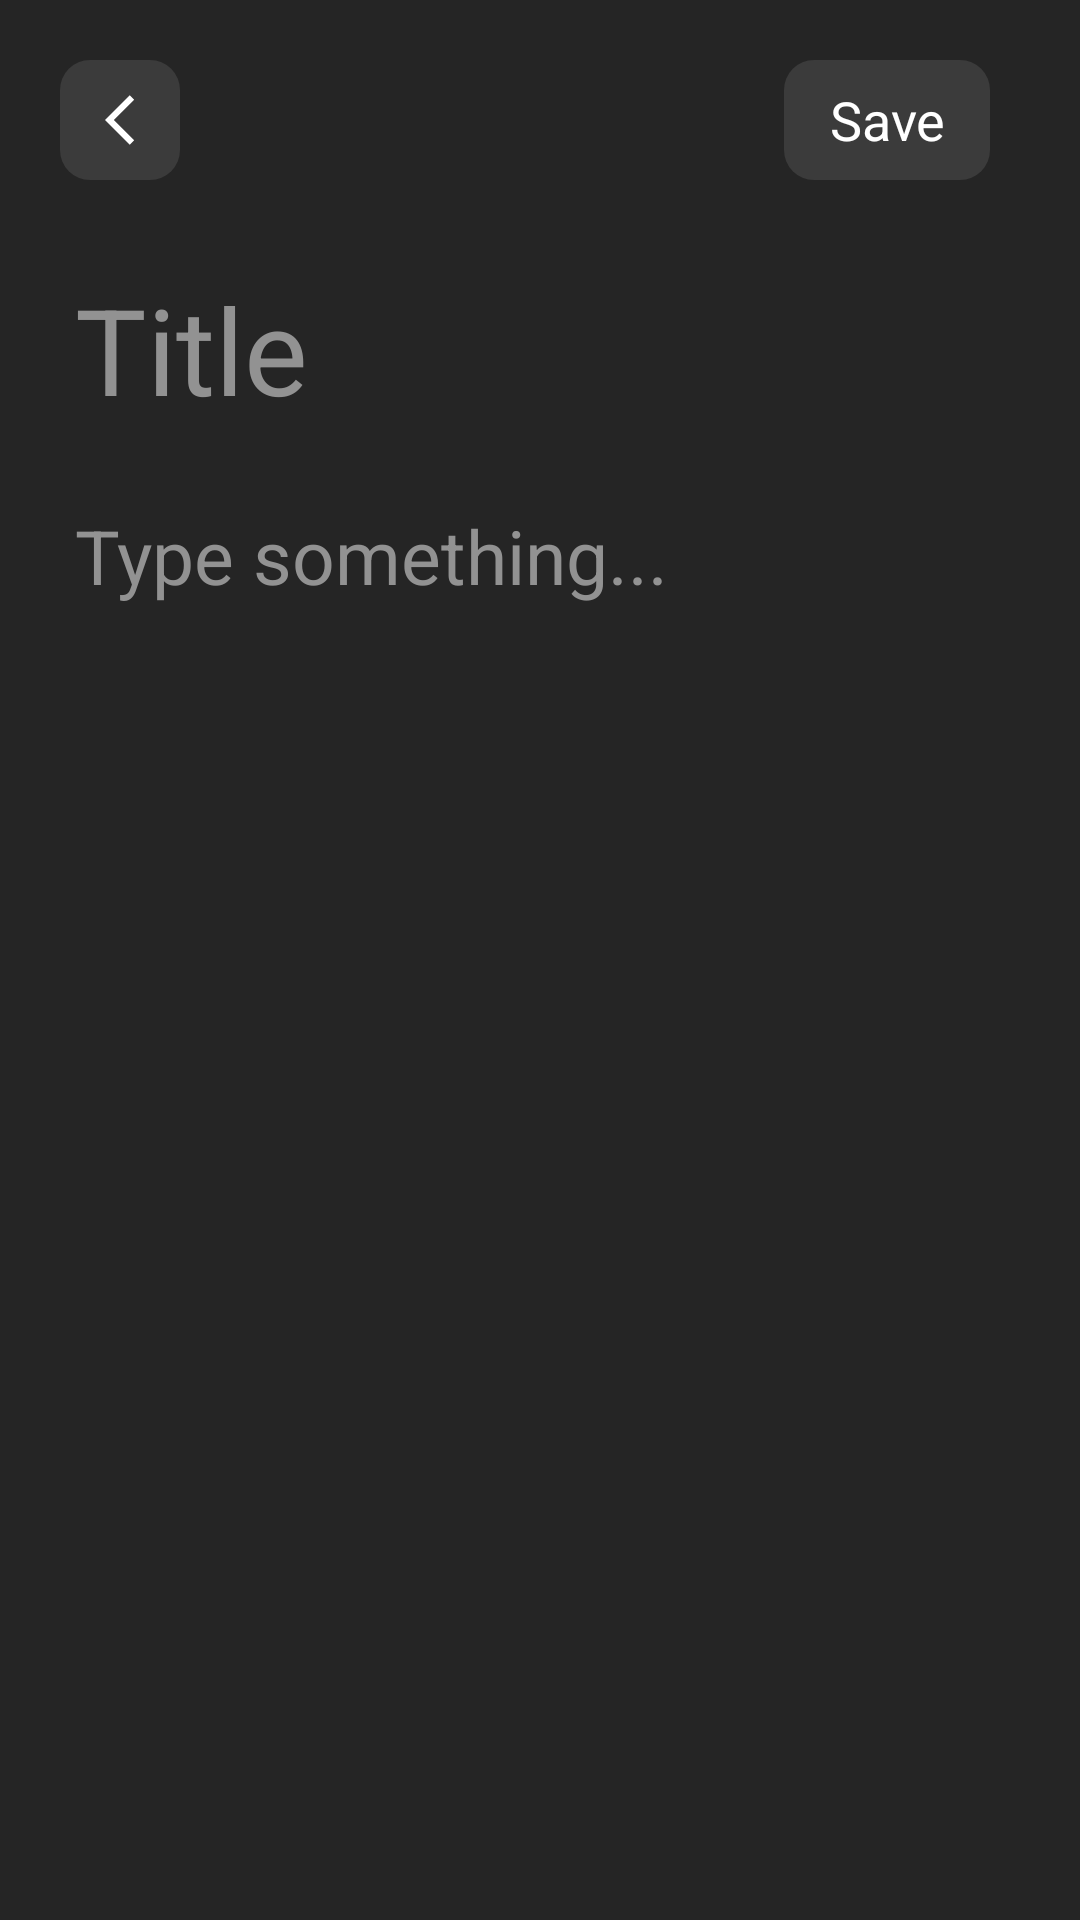

Icons on this 1080 x 1920 Android screen, each with its box as (x1, y1, x2, y2):
arrow back: (60, 60, 180, 180)
